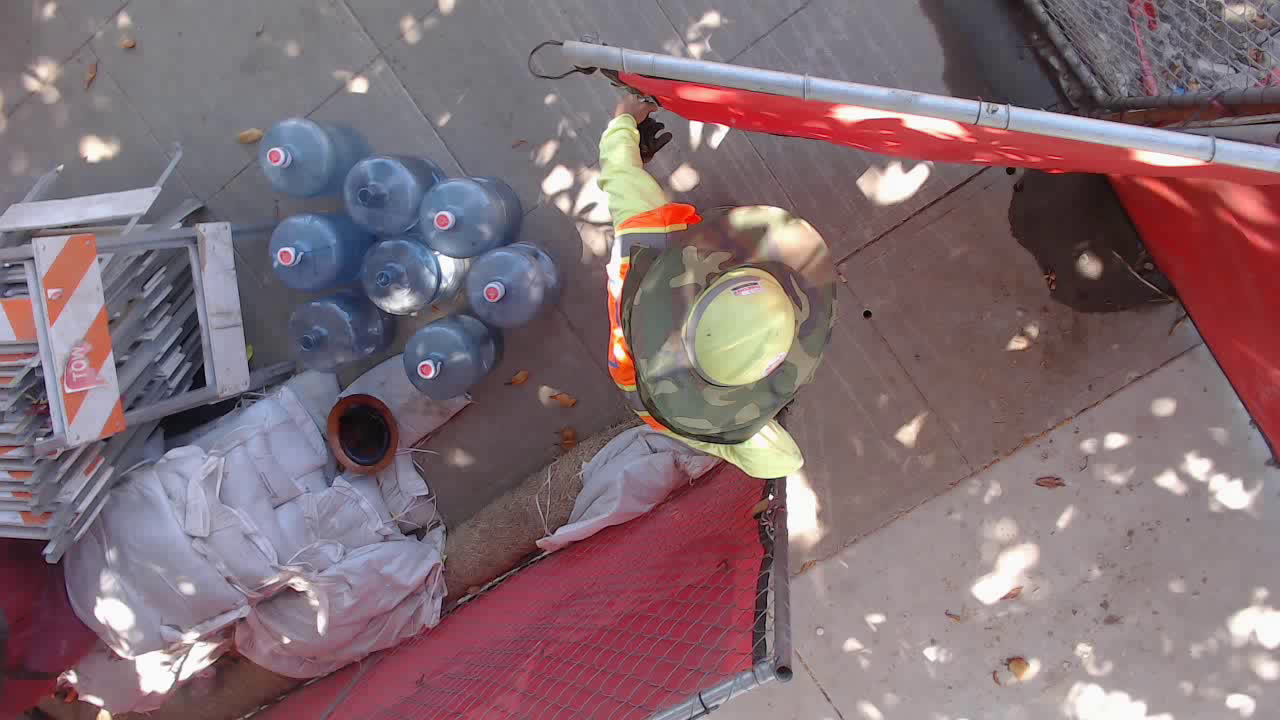hardhat: (682, 270, 798, 390)
safetyvest: (612, 205, 710, 443)
